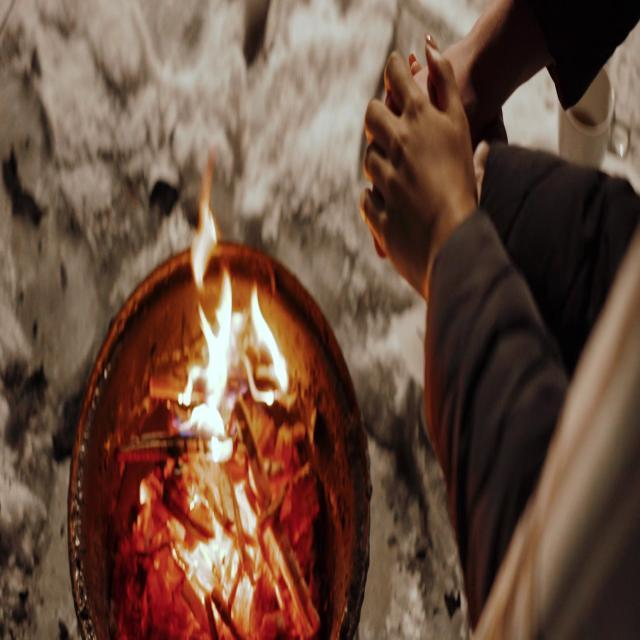Fire: (154, 196, 303, 598)
